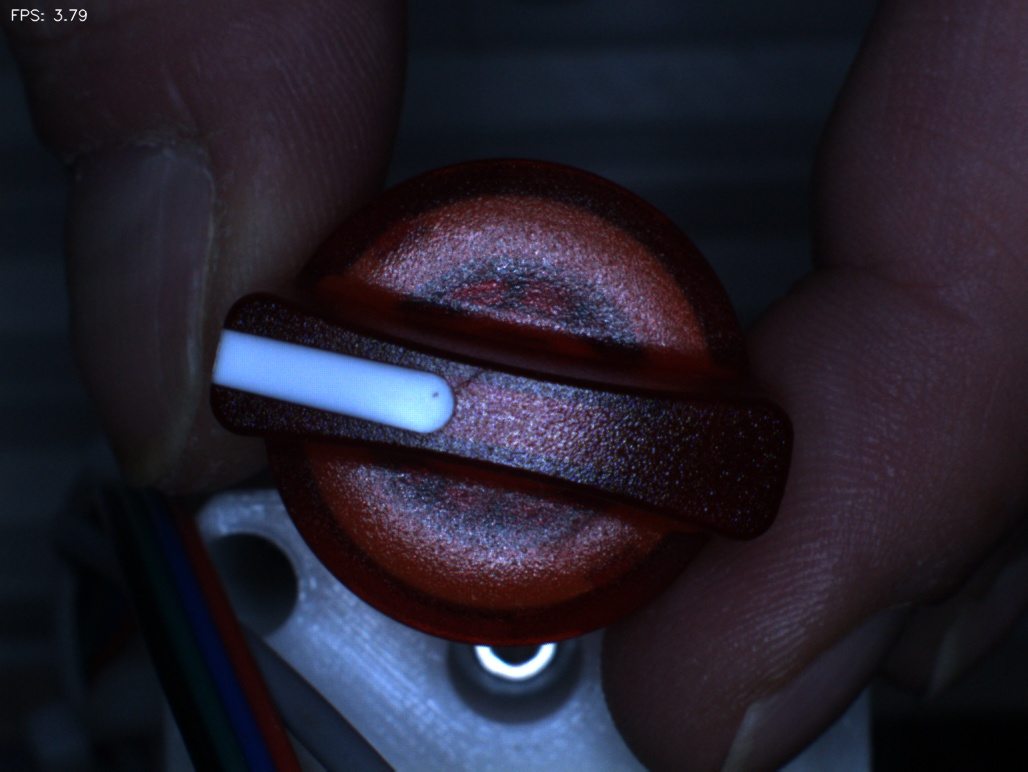PointNoir: (393, 361, 479, 432)
